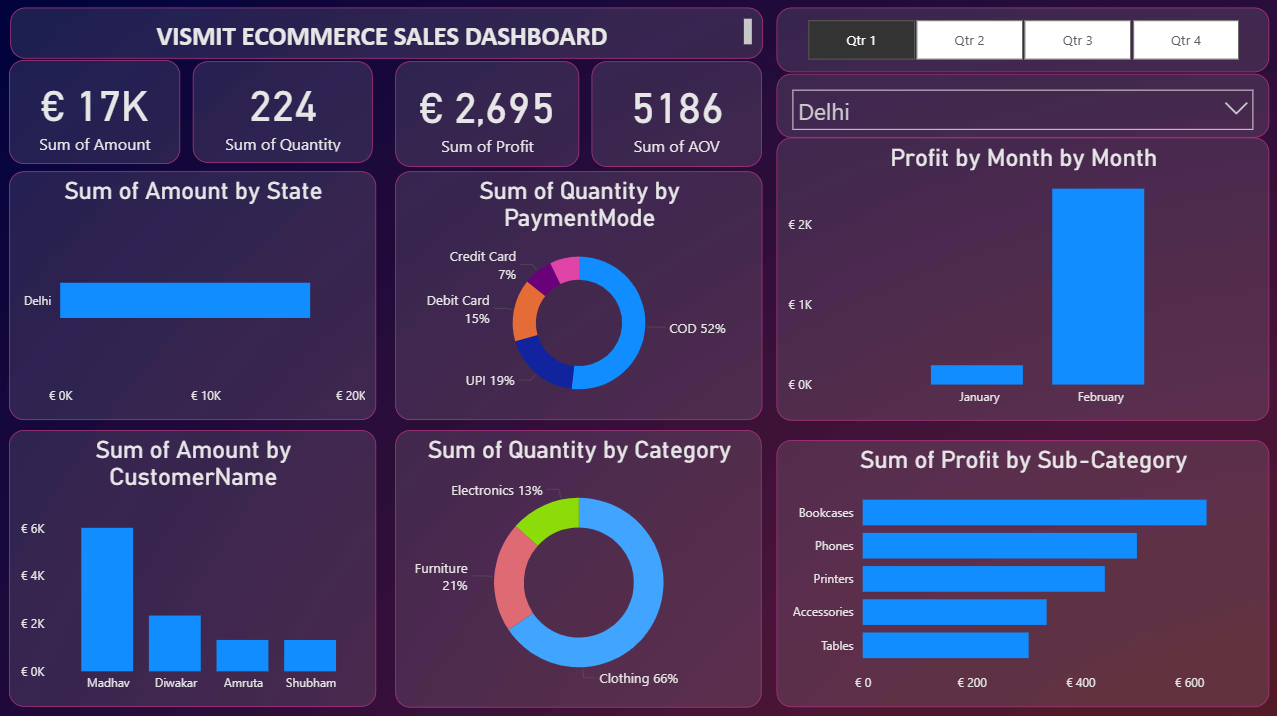

Layout of this report page (visuals, bound fields, positions):
{"tool":"powerbi","page":{"name":"Page 1","canvas":[1280,720],"ordinal":0},"visuals":[{"type":"textbox","box":[10,0,752.9,51.4],"z":0},{"type":"columnChart","fields":{"Category":["Orders.Order Date.Variation.Date Hierarchy.Month"],"Y":["Details.Profit"]},"box":[777.1,137.1,492.9,282.9],"z":1},{"type":"barChart","fields":{"Category":["Details.Sub-Category"],"Y":["Details.Profit"]},"box":[777.1,440,492.9,267.1],"z":2},{"type":"donutChart","fields":{"Category":["Details.Category"],"Y":["Details.Quantity"]},"box":[395.7,429.5,366.8,277.5],"z":3},{"type":"donutChart","fields":{"Category":["Details.PaymentMode"],"Y":["Details.Quantity"]},"box":[395.7,171.4,367.1,248.6],"z":4},{"type":"card","fields":{"Values":["Details.Amount"]},"box":[10,60,171.4,104.3],"z":5},{"type":"card","fields":{"Values":["Details.Quantity"]},"box":[194.3,61.4,180,101.4],"z":6},{"type":"card","fields":{"Values":["Details.Profit"]},"box":[395.7,61.4,184.3,105.7],"z":7},{"type":"card","fields":{"Values":["Details.AOV"]},"box":[592.9,61.4,170,105.7],"z":8},{"type":"barChart","fields":{"Category":["Orders.State"],"Y":["Details.Amount"]},"box":[10,171.4,367.1,248.6],"z":9},{"type":"columnChart","fields":{"Category":["Orders.CustomerName"],"Y":["Details.Amount"]},"box":[10,430,367.1,277.1],"z":10},{"type":"slicer","fields":{"Values":["Orders.Order Date.Variation.Date Hierarchy.Quarter"]},"box":[777.1,1.4,492.9,64.3],"z":11},{"type":"slicer","fields":{"Values":["Orders.State"]},"box":[777.1,62.9,492.9,64.3],"z":12}]}

Visuals, with their boxes in screenshot pixels (x1, y1, x2, y2), scaled from the page's 1280x720 canvas onto the 1277x716 screenshot:
textbox: {"x1": 10, "y1": 0, "x2": 761, "y2": 51}
columnChart - Orders.Order Date.Variation.Date Hierarchy.Month x Details.Profit: {"x1": 775, "y1": 136, "x2": 1267, "y2": 418}
barChart - Details.Sub-Category x Details.Profit: {"x1": 775, "y1": 438, "x2": 1267, "y2": 703}
donutChart - Details.Category x Details.Quantity: {"x1": 395, "y1": 427, "x2": 761, "y2": 703}
donutChart - Details.PaymentMode x Details.Quantity: {"x1": 395, "y1": 170, "x2": 761, "y2": 418}
card - Details.Amount: {"x1": 10, "y1": 60, "x2": 181, "y2": 163}
card - Details.Quantity: {"x1": 194, "y1": 61, "x2": 373, "y2": 162}
card - Details.Profit: {"x1": 395, "y1": 61, "x2": 579, "y2": 166}
card - Details.AOV: {"x1": 592, "y1": 61, "x2": 761, "y2": 166}
barChart - Orders.State x Details.Amount: {"x1": 10, "y1": 170, "x2": 376, "y2": 418}
columnChart - Orders.CustomerName x Details.Amount: {"x1": 10, "y1": 428, "x2": 376, "y2": 703}
slicer - Orders.Order Date.Variation.Date Hierarchy.Quarter: {"x1": 775, "y1": 1, "x2": 1267, "y2": 65}
slicer - Orders.State: {"x1": 775, "y1": 63, "x2": 1267, "y2": 126}
